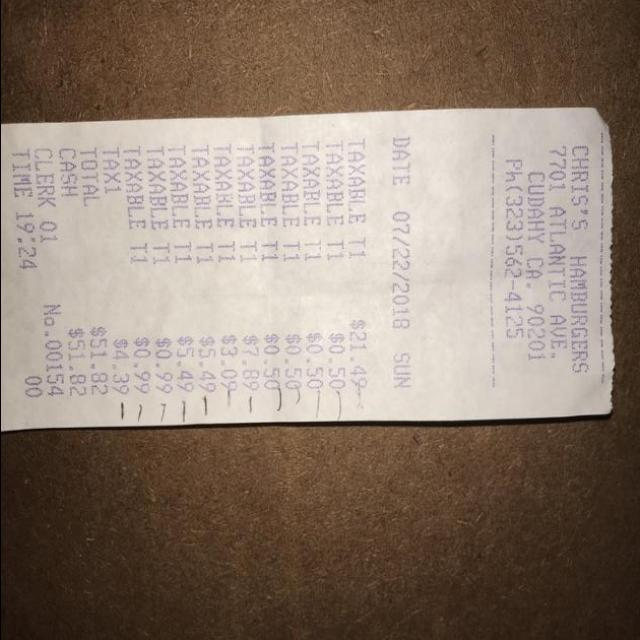kertas: (0, 106, 616, 430)
